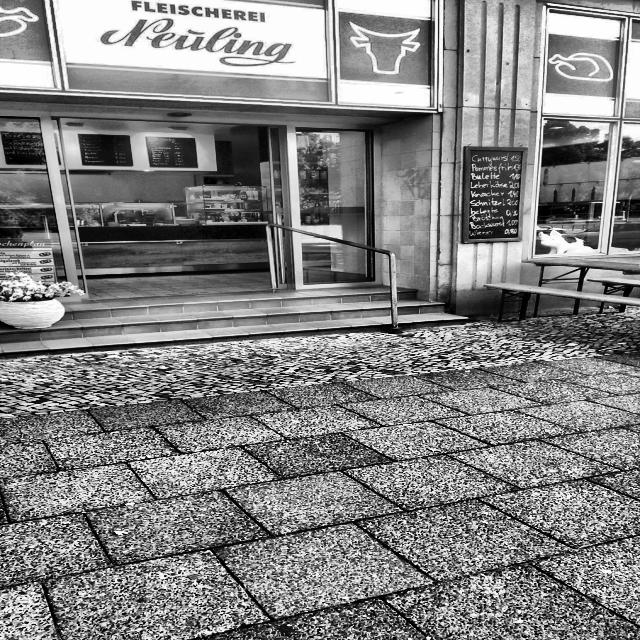escada: (0, 290, 465, 354)
